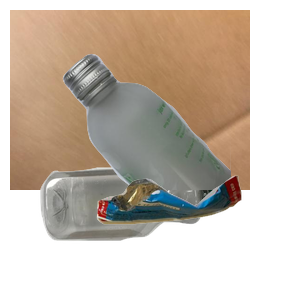cardboard: (10, 10, 250, 190)
glass: (60, 51, 300, 231)
plastic: (38, 165, 255, 300)
trash: (94, 173, 300, 300)
